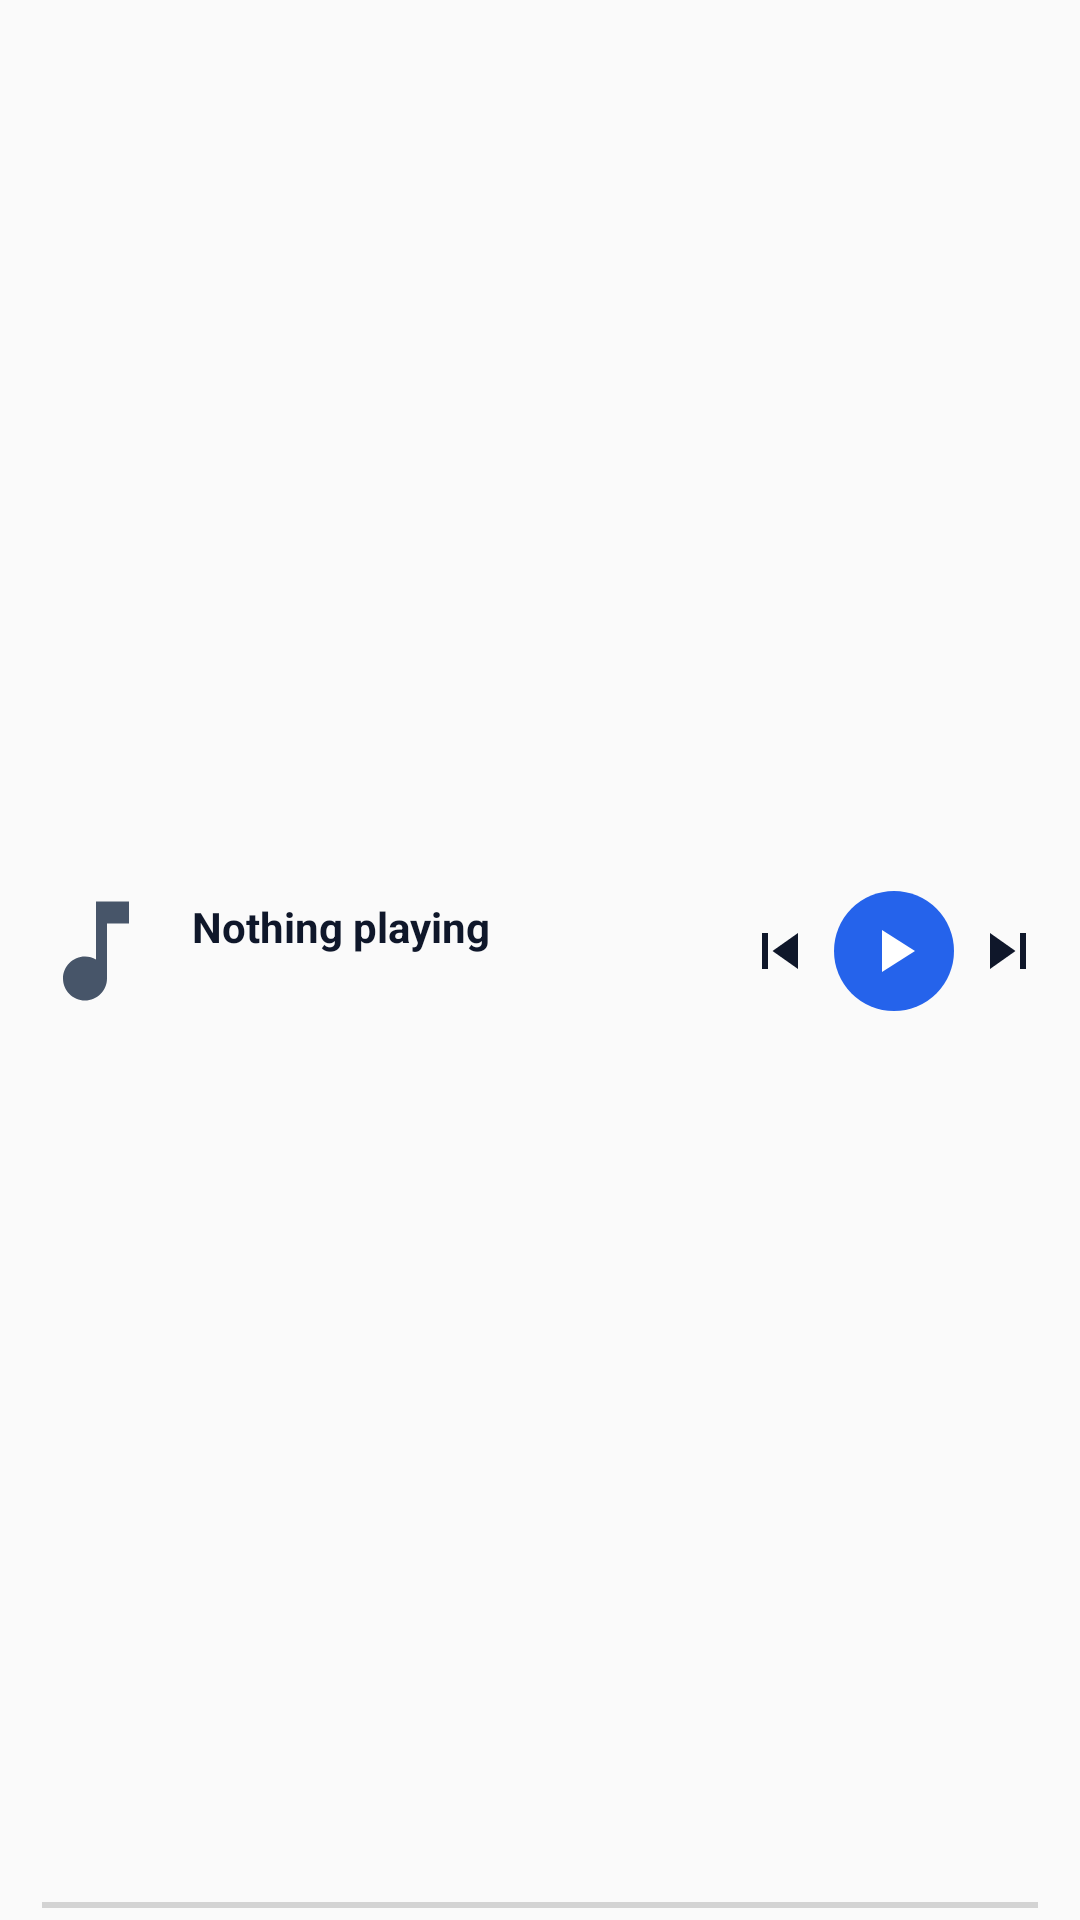

Named icons in this screenshot (1080w x 1920h) and their bounding boxes, (x1, y1, x2, y2):
Next: (990, 933, 1026, 969)
Play or pause: (834, 891, 954, 1011)
Previous: (762, 933, 798, 969)
Tap to open Wild Music Player: (63, 901, 129, 1001)
